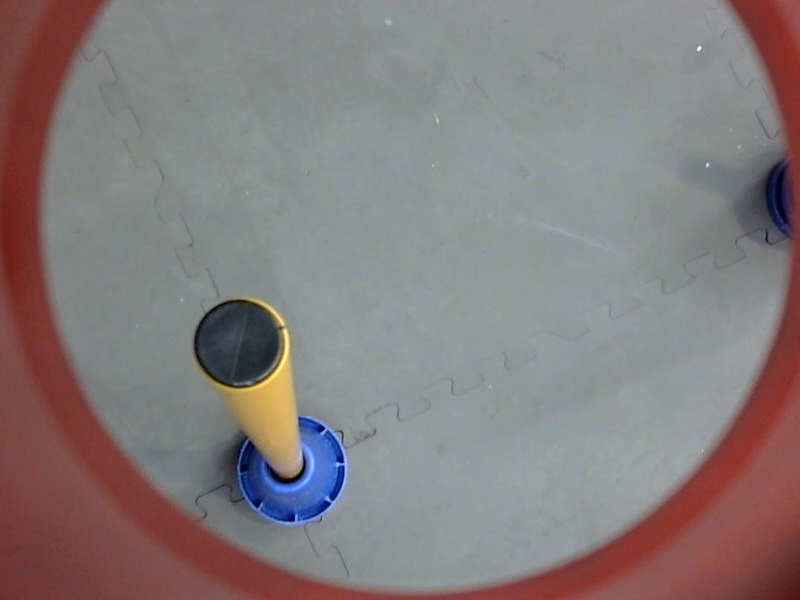tip: (186, 293, 294, 396)
